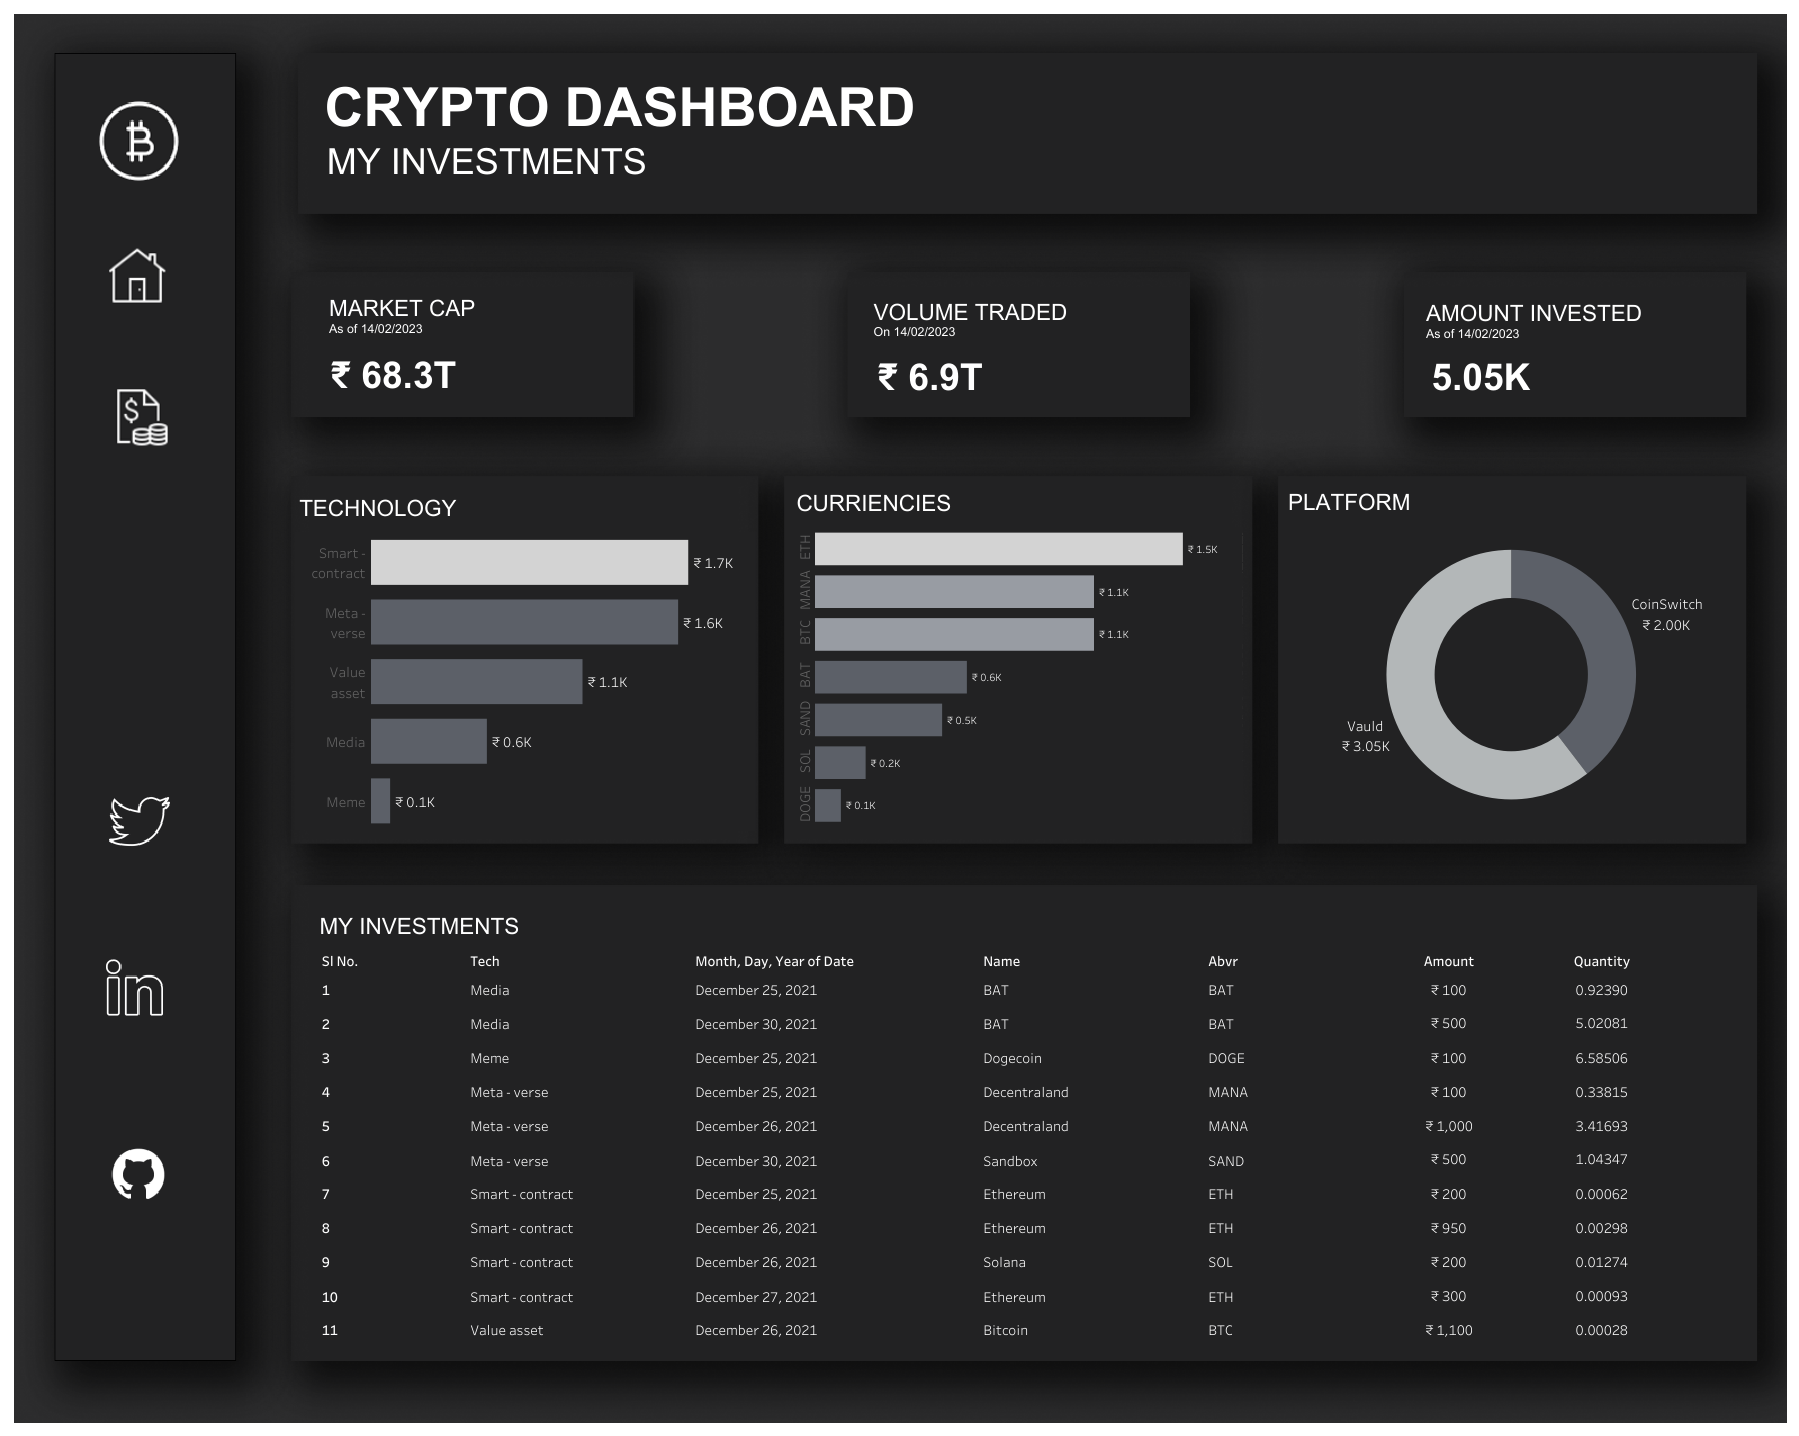

The page's visual inventory and layout, read from the dashboard file:
{"tool":"tableau","page":{"name":"Dashboard 3","canvas":[1600,1277],"ordinal":1},"visuals":[{"type":"image","param":"Image/Rectangle 2.png","box":[8,8,1584,1261]},{"type":"text","box":[286,57,739,76]},{"type":"image","param":"Image/icons8-bitcoin-64.png","box":[88,90,71,75]},{"type":"text","box":[288,122,393,43]},{"type":"dashboard-object","box":[89,220,67,52]},{"type":"text","box":[290,256,209,48]},{"type":"text","box":[774,260,250,46]},{"type":"text","box":[1265,260,252,48]},{"type":"worksheet","title":"Sheet 3","mark":"Automatic","box":[290,312,150,44]},{"type":"worksheet","title":"Sheet 12","mark":"Automatic","box":[1268,312,125,48]},{"type":"worksheet","title":"Sheet 4","mark":"Automatic","box":[776,314,129,44]},{"type":"dashboard-object","box":[87,344,72,52]},{"type":"worksheet","title":"Sheet 9","mark":"Pie","rows":["Calculation_253609017880543235","Calculation_253609017880576005"],"box":[1141,428,404,305]},{"type":"worksheet","title":"Sheet 8","mark":"Bar","rows":["Abvr"],"cols":["Amount"],"box":[704,429,399,305]},{"type":"worksheet","title":"Sheet 7","mark":"Automatic","rows":["Tech"],"cols":["Amount"],"box":[262,434,409,304]},{"type":"image","param":"Image/twitter (1).png","box":[97,703,54,55]},{"type":"worksheet","title":"Sheet 10","mark":"Automatic","rows":["Calculation_253609017887035398","Tech","Date","Name","Abvr"],"box":[280,805,1255,392]},{"type":"image","param":"Image/linkedin (2).png","box":[94,850,51,55]},{"type":"image","param":"Image/icons8-github-120.png","box":[84,1016,78,56]}]}

Visuals, with their boxes in screenshot pixels (x1, y1, x2, y2), scaled from the page's 1600x1277 canvas onto the 1799x1436 screenshot:
image: <region>9, 9, 1790, 1427</region>
text: <region>322, 64, 1152, 150</region>
image: <region>99, 101, 179, 186</region>
text: <region>324, 137, 766, 186</region>
dashboard-object: <region>100, 247, 175, 306</region>
text: <region>326, 288, 561, 342</region>
text: <region>870, 292, 1151, 344</region>
text: <region>1422, 292, 1706, 346</region>
"Sheet 3" worksheet: <region>326, 351, 495, 400</region>
"Sheet 12" worksheet: <region>1426, 351, 1566, 405</region>
"Sheet 4" worksheet: <region>873, 353, 1018, 403</region>
dashboard-object: <region>98, 387, 179, 445</region>
"Sheet 9" worksheet (Pie marks): <region>1283, 481, 1737, 824</region>
"Sheet 8" worksheet (Bar marks): <region>792, 482, 1240, 825</region>
"Sheet 7" worksheet: <region>295, 488, 754, 830</region>
image: <region>109, 791, 170, 852</region>
"Sheet 10" worksheet: <region>315, 905, 1726, 1346</region>
image: <region>106, 956, 163, 1018</region>
image: <region>94, 1143, 182, 1205</region>
